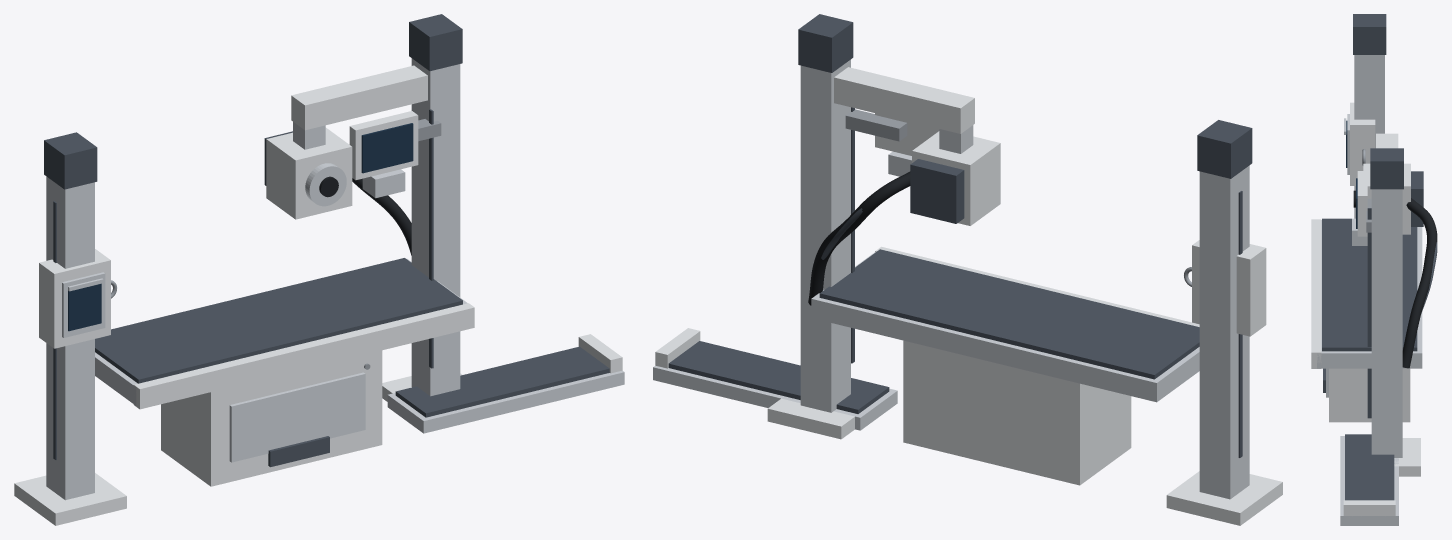
Rendered from x ray scanner.glb.
3 views of the same model, side by side, from view 1: azimuth 30°, elevation 25°; view 2: azimuth 150°, elevation 25°; view 3: azimuth 270°, elevation 25° (orthographic). The views are drawn at different scales.
Parts seen in each view (by area): view 1: Table Carbon Surface, Right Tube Vertical Column, Table Main Base, Left Detector Vertical Column, Table Front Edge, Table Base Front Panel, Floor Detector Tray Surface, Tube Horizontal Support, X-Ray Tube Main Housing, Floor Detector Rail, Vertical X-Ray Detector Housing, Left Column Foot (+14 smaller); view 2: Table Main Base, Table Carbon Surface, Left Detector Vertical Column, Right Tube Vertical Column, Radiography Tabletop, Tube Horizontal Support, Floor Detector Tray Surface, X-Ray Tube Main Housing, Left Column Foot, Vertical X-Ray Detector Housing, Tube Rear Housing, Floor Detector Rail (+10 smaller); view 3: Right Tube Vertical Column, Table Carbon Surface, Floor Detector Tray Surface, Table Main Base, Left Detector Vertical Column, Tube Cable, Radiography Tabletop, Table Front Edge, Right Column Top Cap, Left Column Top Cap, Vertical X-Ray Detector Housing, Floor Detector Rail (+10 smaller).
Part boxes in pixels (bbox=[...]): Table Carbon Surface: bbox=[95, 258, 462, 383]; Right Tube Vertical Column: bbox=[411, 58, 460, 396]; Table Main Base: bbox=[161, 350, 382, 486]; Left Detector Vertical Column: bbox=[46, 176, 94, 500]; Table Front Edge: bbox=[133, 303, 474, 409]; Table Base Front Panel: bbox=[229, 372, 365, 462]; Floor Detector Tray Surface: bbox=[395, 346, 609, 417]; Tube Horizontal Support: bbox=[291, 65, 427, 130]; X-Ray Tube Main Housing: bbox=[266, 127, 352, 219]; Floor Detector Rail: bbox=[387, 370, 624, 433]; Vertical X-Ray Detector Housing: bbox=[39, 249, 110, 348]; Left Column Foot: bbox=[14, 473, 126, 525]; Table Main Base: bbox=[903, 340, 1131, 485]; Table Carbon Surface: bbox=[819, 249, 1199, 379]; Left Detector Vertical Column: bbox=[1199, 165, 1249, 499]; Right Tube Vertical Column: bbox=[800, 59, 850, 412]; Radiography Tabletop: bbox=[811, 252, 1199, 402]; Tube Horizontal Support: bbox=[834, 67, 974, 133]; Floor Detector Tray Surface: bbox=[668, 341, 889, 413]; X-Ray Tube Main Housing: bbox=[912, 131, 1000, 225]; Left Column Foot: bbox=[1166, 471, 1282, 525]; Vertical X-Ray Detector Housing: bbox=[1192, 240, 1266, 336]; Tube Rear Housing: bbox=[910, 159, 964, 223]; Floor Detector Rail: bbox=[653, 365, 897, 430]; Right Tube Vertical Column: bbox=[1371, 189, 1402, 457]; Table Carbon Surface: bbox=[1322, 218, 1417, 351]; Floor Detector Tray Surface: bbox=[1345, 434, 1394, 500]; Table Main Base: bbox=[1329, 368, 1410, 422]; Left Detector Vertical Column: bbox=[1354, 55, 1384, 218]; Tube Cable: bbox=[1402, 198, 1437, 368]; Radiography Tabletop: bbox=[1317, 220, 1422, 368]; Table Front Edge: bbox=[1311, 219, 1321, 368]; Right Column Top Cap: bbox=[1370, 148, 1403, 189]; Left Column Top Cap: bbox=[1353, 14, 1386, 54]; Vertical X-Ray Detector Housing: bbox=[1350, 102, 1375, 185]; Floor Detector Rail: bbox=[1340, 436, 1398, 525].
Bounding box in the file's own units: 7.68 × 4.84 × 1.8.
